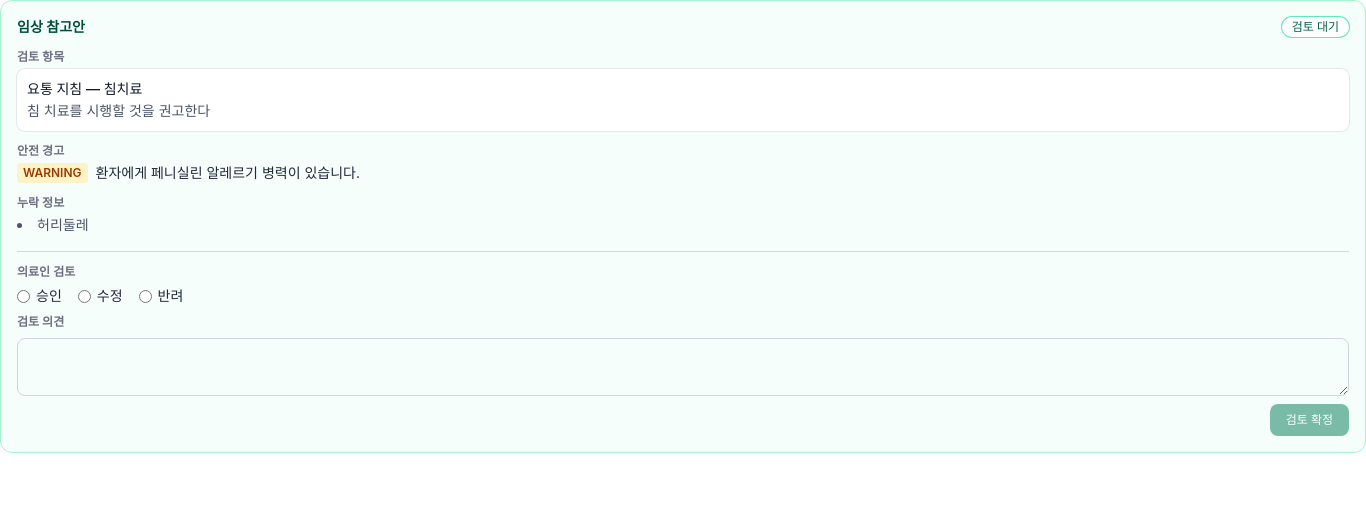
Test: GuidanceCard › 이미 검토가 끝난 임상 참고안의 서버 오류 메시지를 렌더링한다
Click the radio button with aria-label "MODIFIED" at (84, 296), box [78,290,91,302]
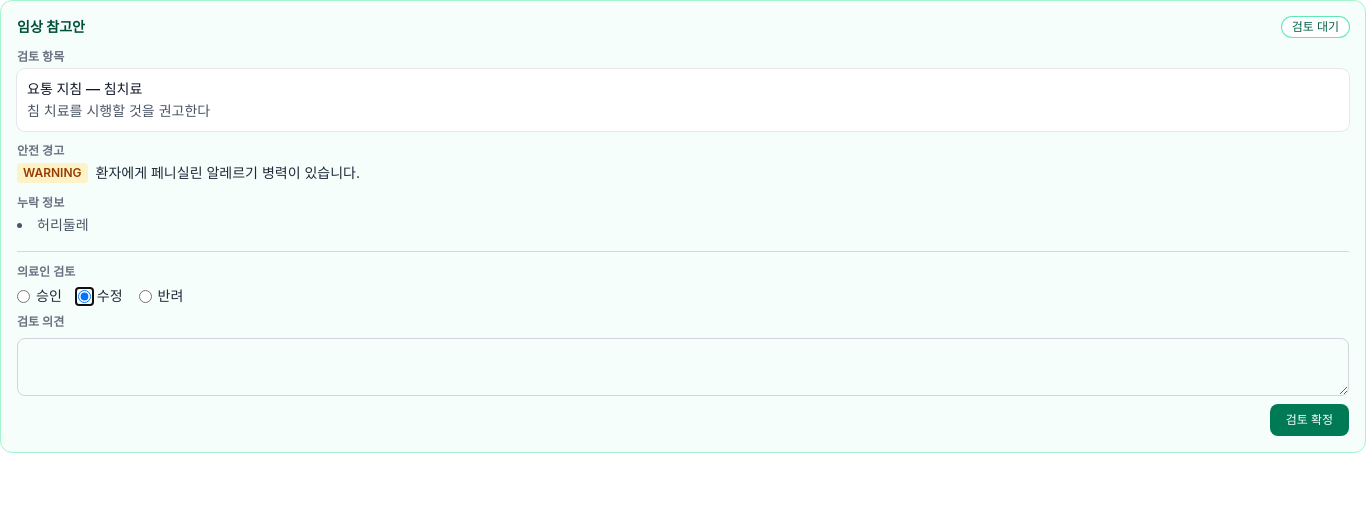
Type "용량 조정 필요" into the text box labelled "검토 의견" at (683, 367), box [17,338,1349,396]
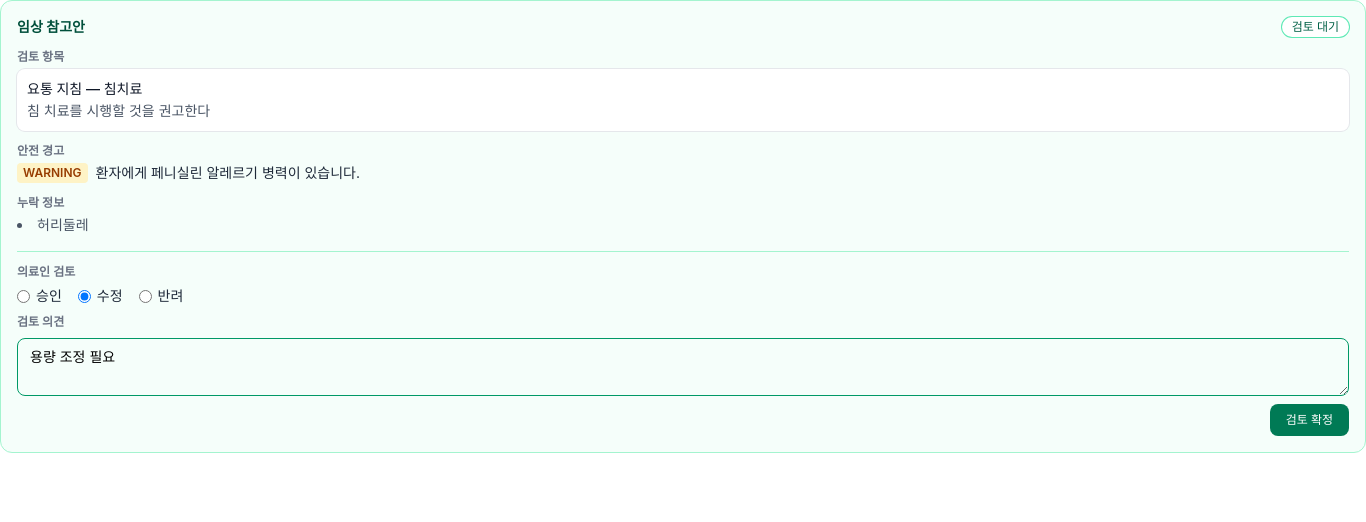
Click the button "검토 확정" at (1309, 420), box [1270,404,1349,436]
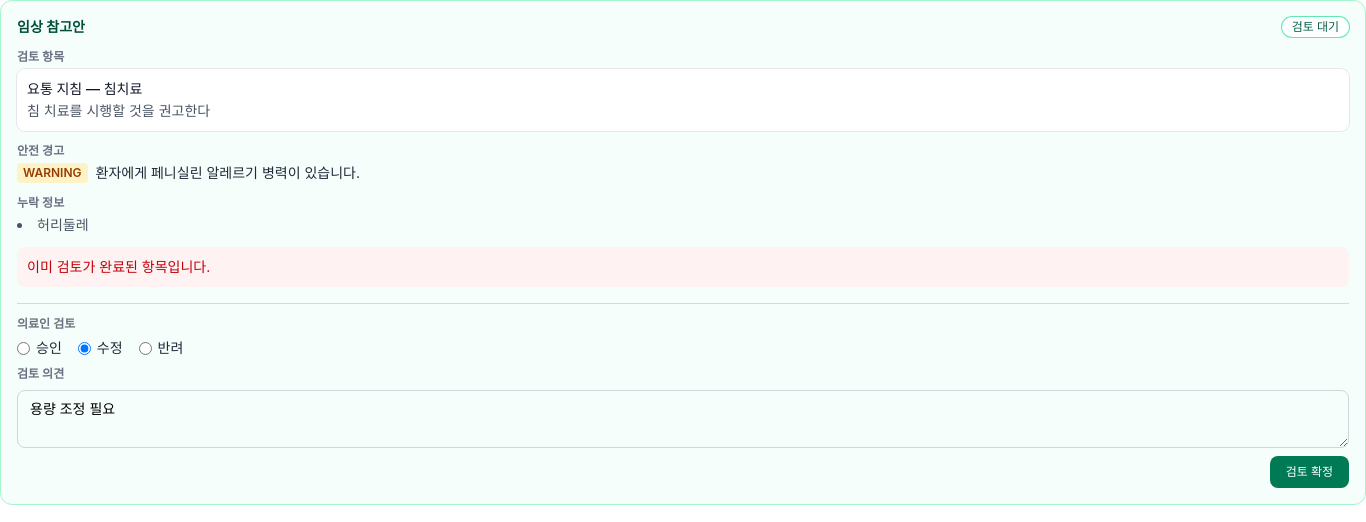
Result: the message reads "이미 검토가 완료된 항목입니다." at [27,258,210,275]
